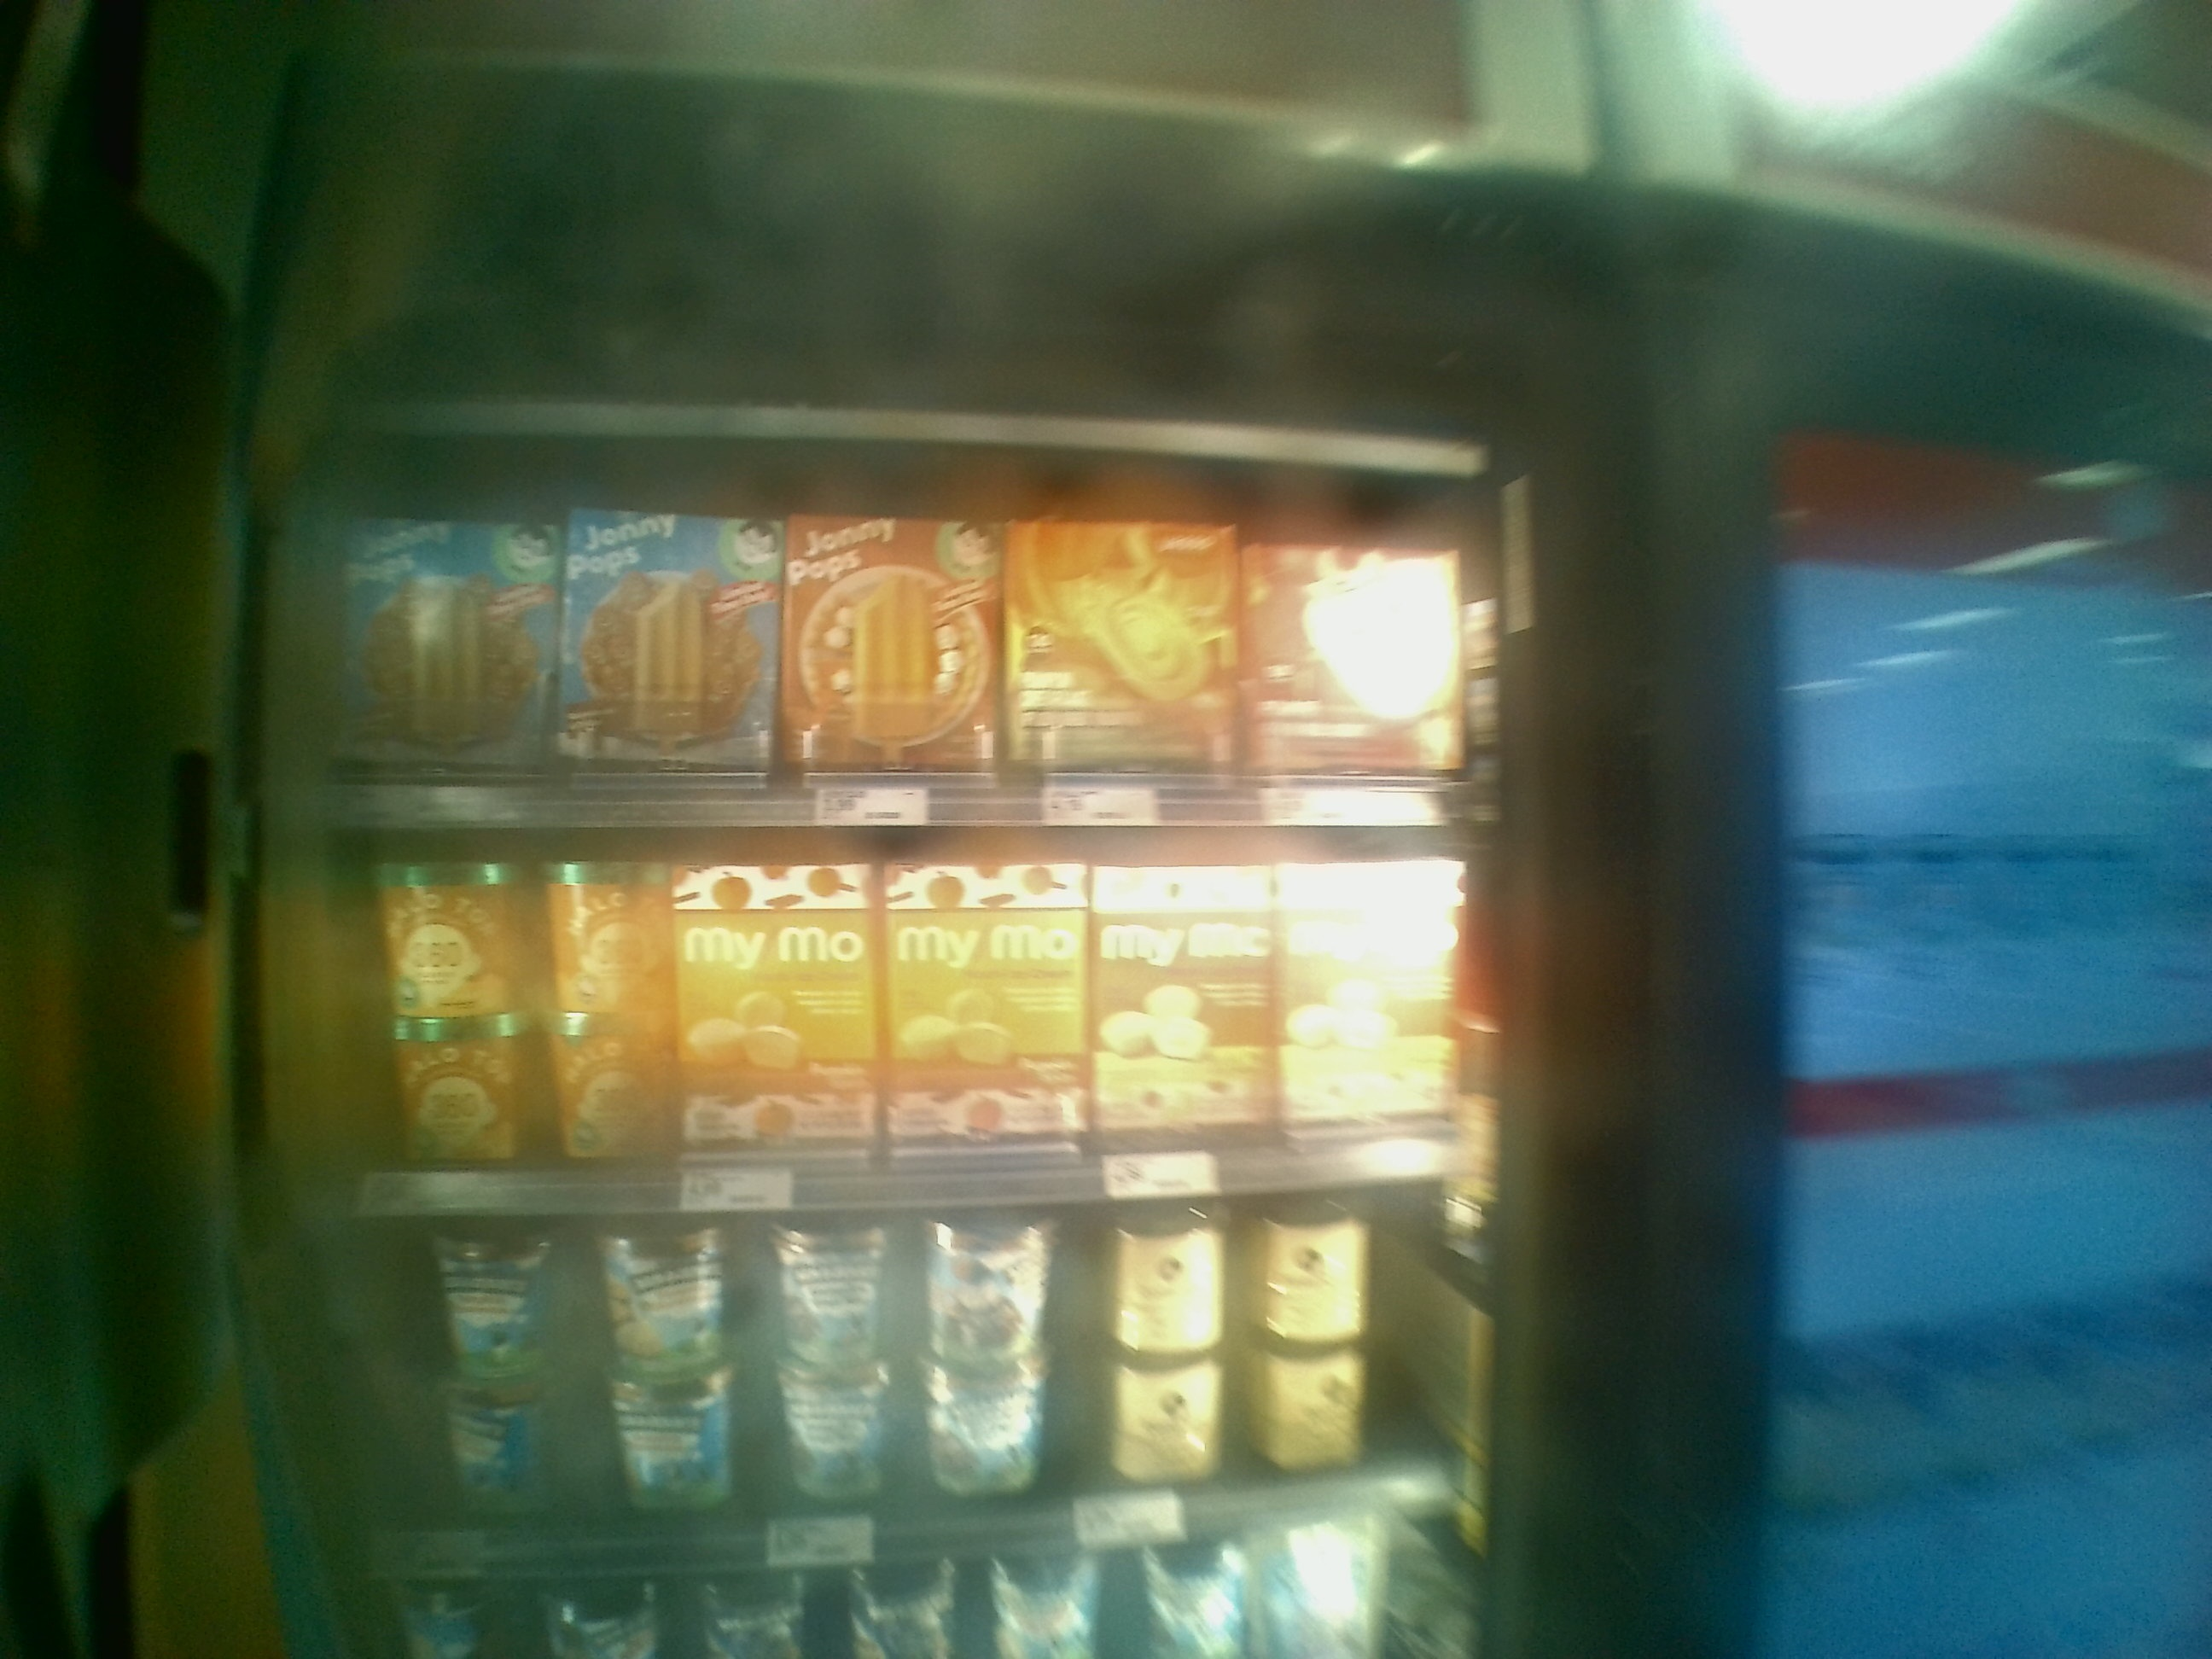shelf: (284, 434, 1527, 835), (260, 1180, 1517, 1560), (268, 817, 1517, 1195)
